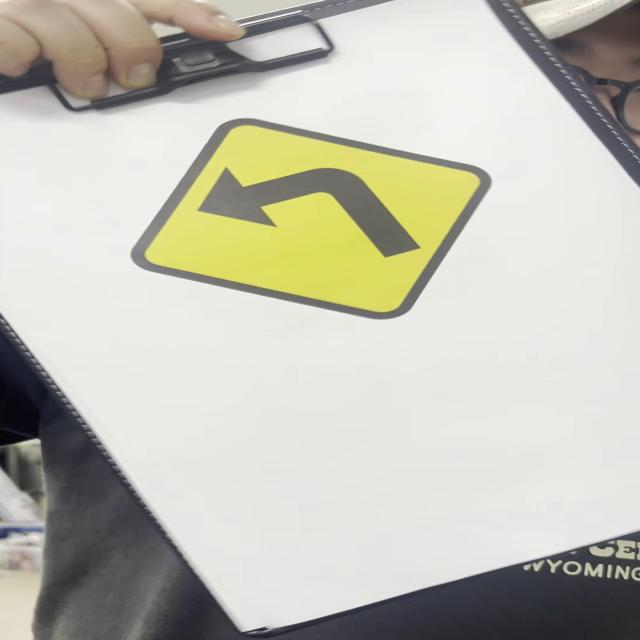left: (132, 118, 495, 320)
